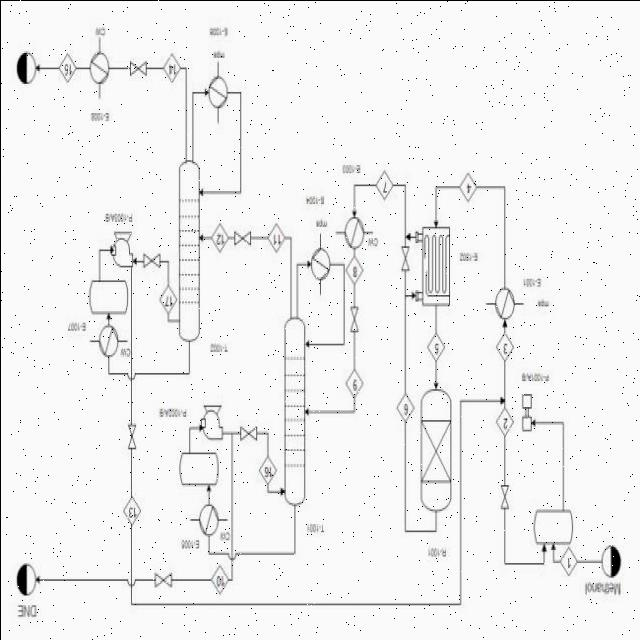Centrifugal Pump: (190, 398, 227, 443), (105, 225, 136, 275)
Gate Valve: (228, 221, 258, 254), (122, 418, 147, 452), (126, 56, 156, 84), (150, 567, 180, 592), (238, 418, 262, 444), (495, 477, 511, 515), (346, 298, 362, 336), (398, 241, 414, 275), (142, 248, 162, 270)
